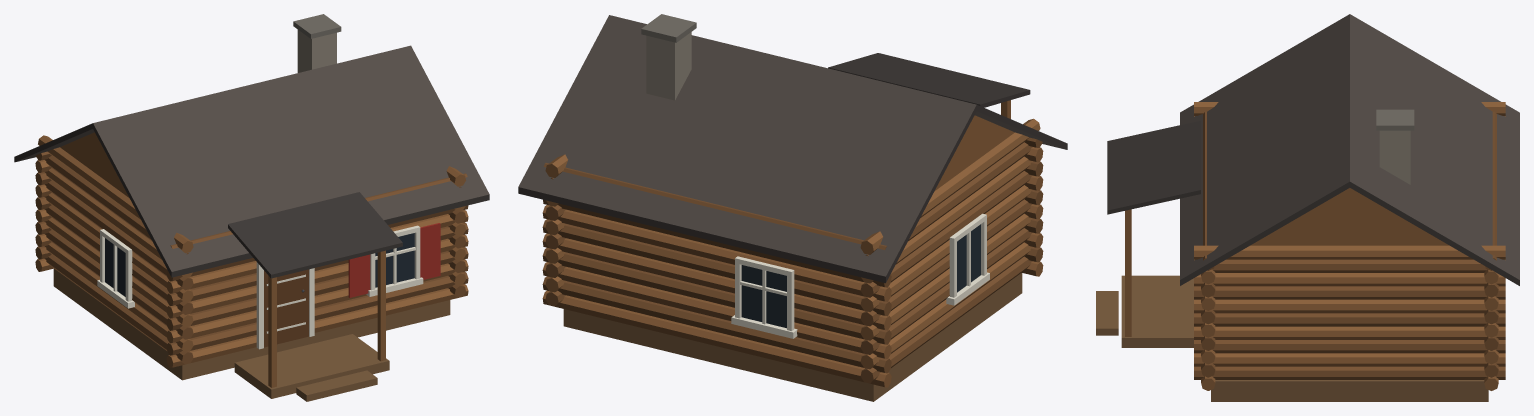
Rendered from House_Log.obj.
3 views of the same model, side by side, from view 1: azimuth 30°, elevation 25°; view 2: azimuth 150°, elevation 25°; view 3: azimuth 270°, elevation 25° (orthographic). The views are drawn at different scales.
Visible parts, largest first — view 1: House_Log; view 2: House_Log; view 3: House_Log.
Part boxes in pixels (x1,y1,x2,y2): House_Log: (14, 14, 489, 401); House_Log: (518, 14, 1067, 401); House_Log: (1096, 14, 1519, 401).
Bounding box in the file's own units: 7 × 5.05 × 7.48.
